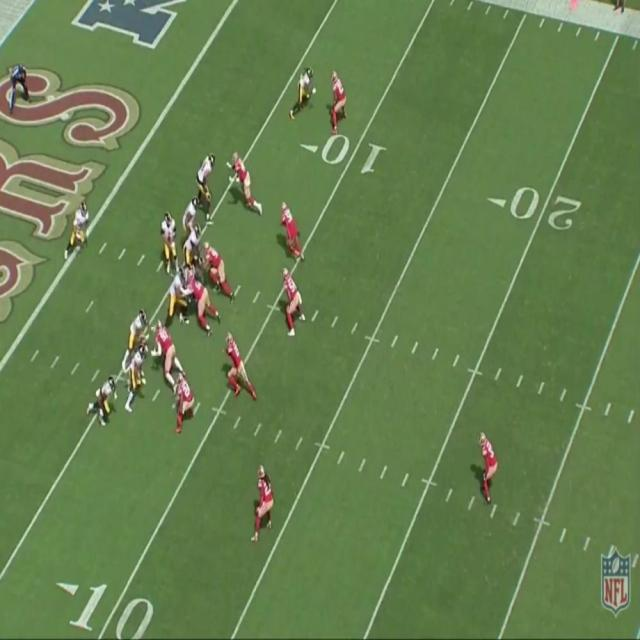center: (185, 223, 201, 260)
db: (476, 428, 501, 500), (254, 462, 275, 547), (176, 372, 194, 432), (330, 68, 346, 130)
lb: (222, 329, 256, 397), (282, 263, 305, 338), (279, 199, 305, 262)
qb: (160, 210, 179, 270)
skill: (86, 373, 118, 426), (125, 345, 150, 408), (64, 199, 90, 259), (290, 62, 315, 120), (129, 306, 149, 342)
